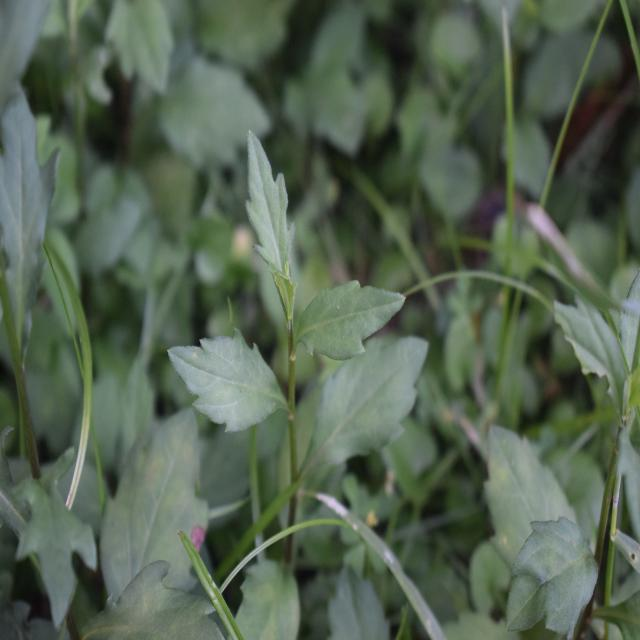Indian aster: (181, 160, 425, 506)
